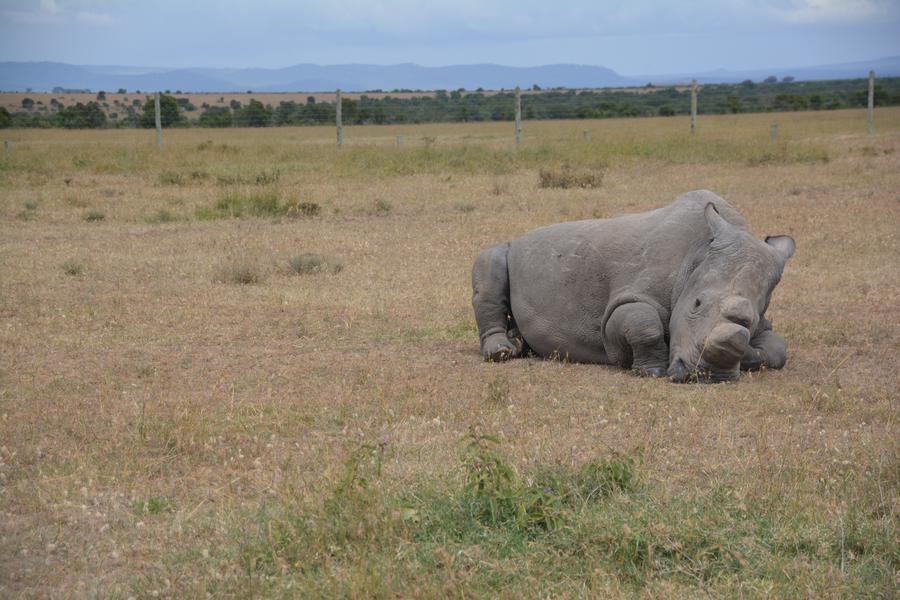rhino: (486, 187, 784, 369)
